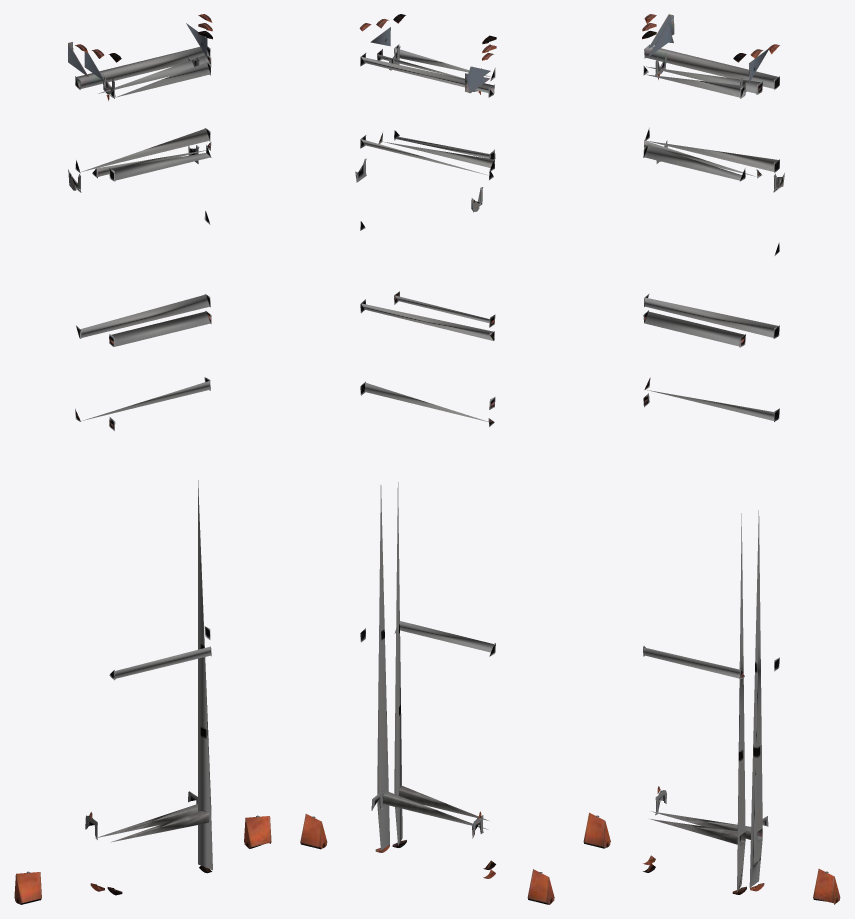
File: ladder_sectioned_01.glb
3 views of the same model, side by side, from view 1: azimuth 30°, elevation 25°; view 2: azimuth 150°, elevation 25°; view 3: azimuth 330°, elevation 25° (orthographic).
Parts seen in each view (by area): view 1: ladder_section_03, ladder_section_01, ladder_section_02; view 2: ladder_section_01, ladder_section_03, ladder_section_02; view 3: ladder_section_03, ladder_section_01, ladder_section_02.
Part boxes in pixels (x1,y1,x2,y2): ladder_section_03: [102, 31, 212, 895]; ladder_section_01: [14, 14, 271, 904]; ladder_section_02: [84, 23, 212, 891]; ladder_section_01: [300, 23, 554, 904]; ladder_section_03: [388, 14, 496, 869]; ladder_section_02: [370, 19, 496, 878]; ladder_section_03: [642, 30, 750, 894]; ladder_section_01: [583, 14, 840, 904]; ladder_section_02: [642, 23, 768, 891].
Size of the model in its own units: 0.6615 by 2.13 by 0.177.
1 material, 1 textured.
